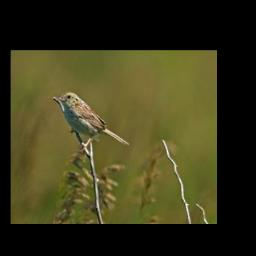Sparrow: (55, 90, 130, 153)
